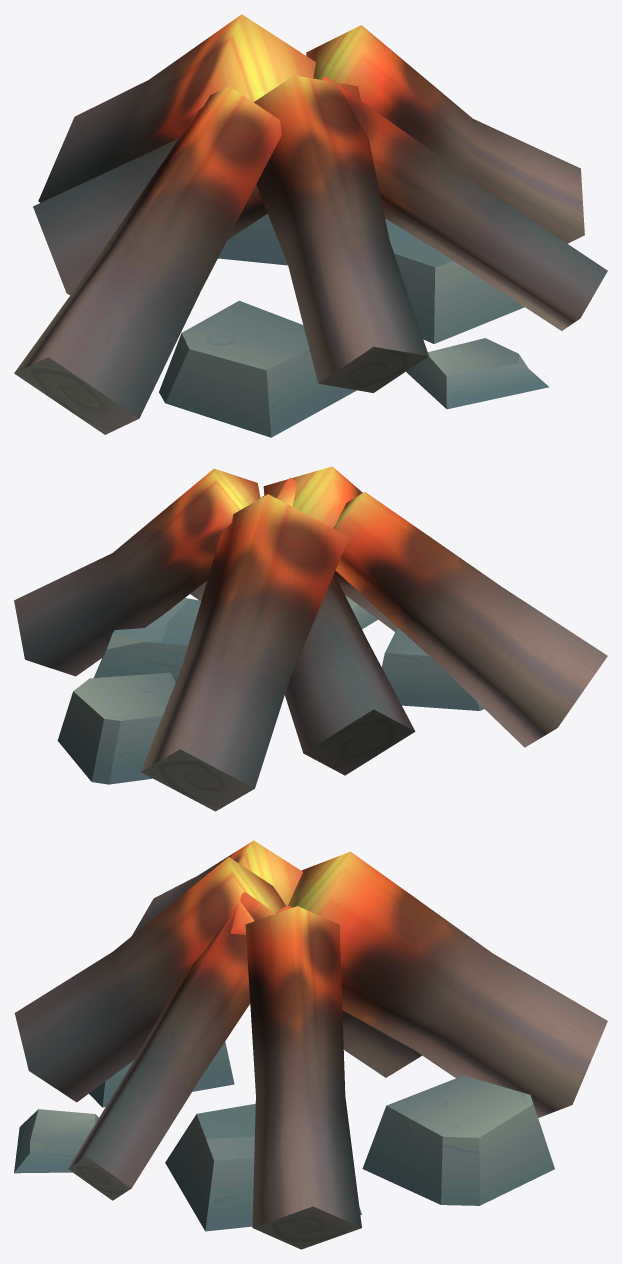
Rendered from Obstacle1B-003_02_04_0391.fbx.
3 renders of one model, top to bottom at view 1: azimuth 30°, elevation 25°; view 2: azimuth 150°, elevation 25°; view 3: azimuth 270°, elevation 25°, orthographic. The views are drawn at different scales.
Visible parts, largest first — view 1: CornerTree1 (1); view 2: CornerTree1 (1); view 3: CornerTree1 (1).
Boxes of the visible parts, <box> form: CornerTree1 (1): <box>14,14,607,437</box>; CornerTree1 (1): <box>14,466,607,811</box>; CornerTree1 (1): <box>14,840,607,1249</box>.
Bounding box in the file's own units: 2.12 × 1.01 × 1.86.
